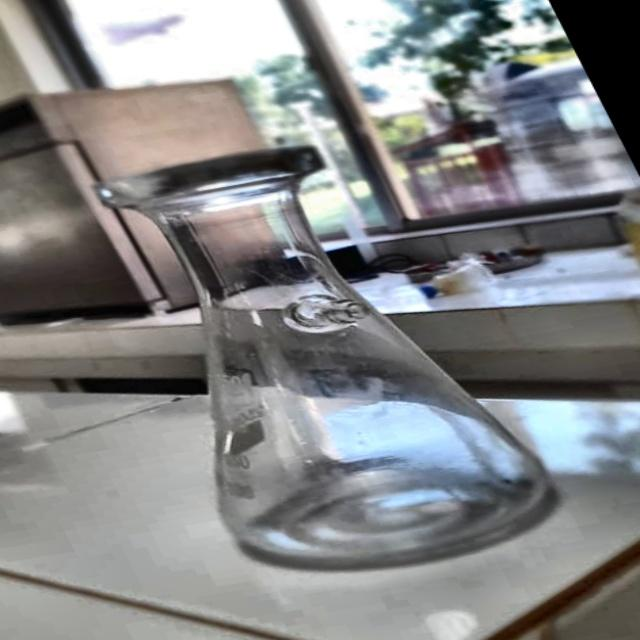Filtration Flask: (52, 115, 580, 586)
